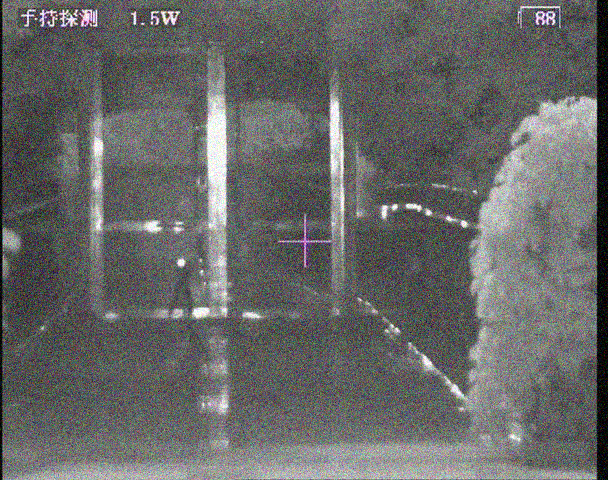my: (176, 258, 186, 267)
